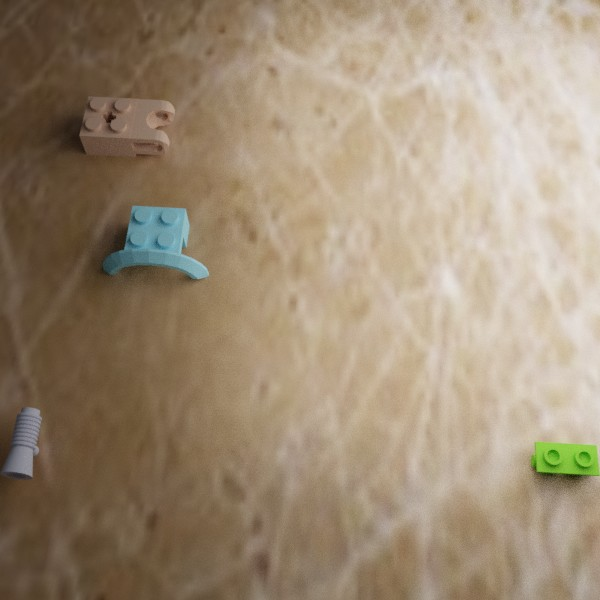lego: (102, 205, 208, 279), (79, 96, 174, 156), (0, 407, 41, 479), (530, 441, 600, 476)
